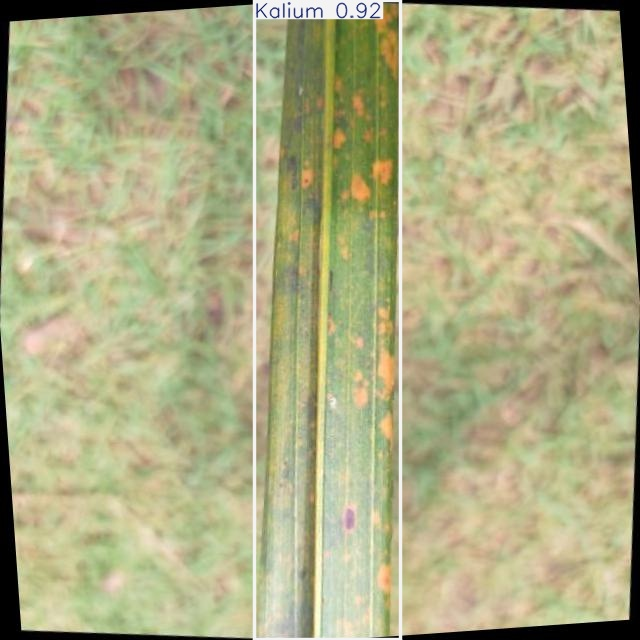Kalium: (255, 1, 401, 640)
